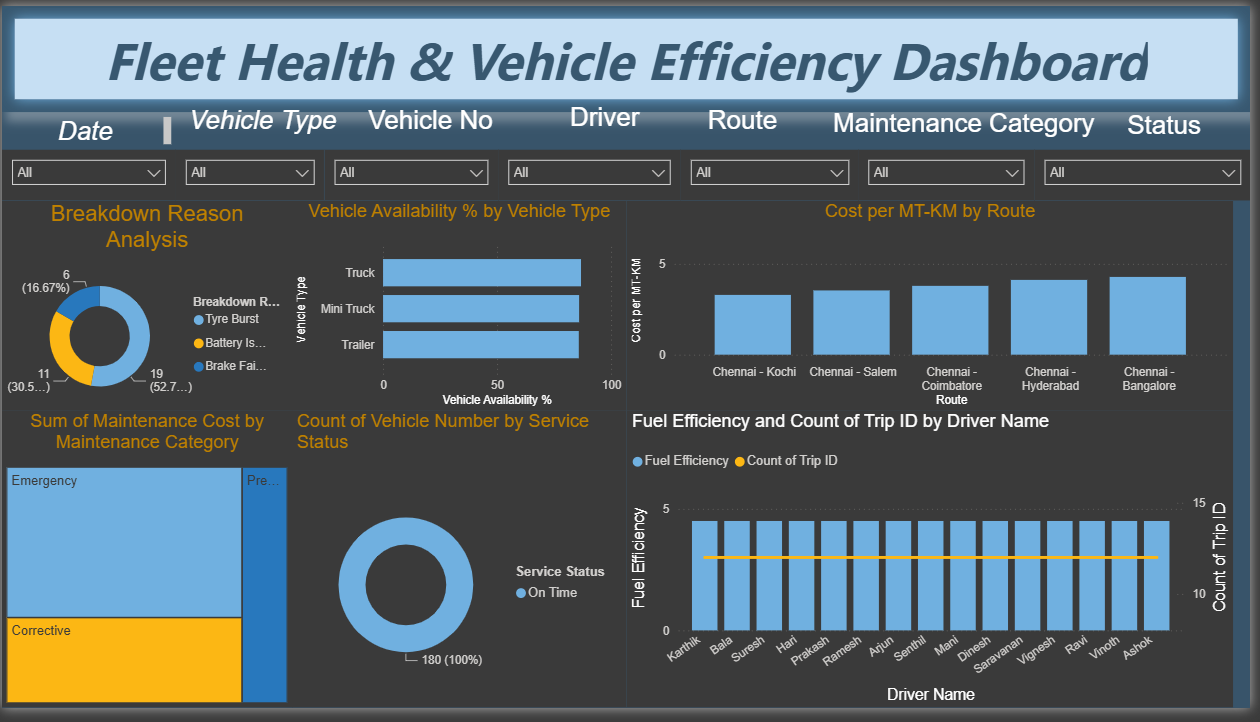

The dashboard page shown, as its layout file describes it:
{"tool":"powerbi","page":{"name":"Page 1","canvas":[1280,720],"ordinal":0},"visuals":[{"type":"shape","box":[17.4,15.2,1234.8,76.1],"z":0},{"type":"slicer","fields":{"Values":["Table1.Trip Date"]},"box":[0,143.5,195.7,41.3],"z":1000},{"type":"slicer","fields":{"Values":["Table1.Vehicle Number"]},"box":[341.3,143.5,154.3,41.3],"z":2000},{"type":"slicer","fields":{"Values":["Table1.Vehicle Status"]},"box":[1063,143.5,217.4,41.3],"z":3000},{"type":"slicer","fields":{"Values":["Table1.Vehicle Type"]},"box":[195.7,143.5,145.7,41.3],"z":4000},{"type":"slicer","fields":{"Values":["Table1.Maintenance Category"]},"box":[880.4,143.5,182.6,41.3],"z":5000},{"type":"slicer","fields":{"Values":["Table1.Route"]},"box":[660.9,143.5,219.6,41.3],"z":6000},{"type":"slicer","fields":{"Values":["Table1.Driver Name"]},"box":[495.7,143.5,165.2,41.3],"z":7000},{"type":"textbox","box":[50,95.7,97.8,47.8],"z":8000},{"type":"textbox","box":[147.8,95.7,241.3,47.8],"z":9000},{"type":"textbox","box":[341.3,95.7,200,47.8],"z":10000},{"type":"textbox","box":[523.9,95.7,137,47.8],"z":11000},{"type":"textbox","box":[687,93.5,182.6,50],"z":12000},{"type":"textbox","box":[813,95.7,308.7,47.8],"z":13000},{"type":"textbox","box":[1121.7,91.3,130.4,54.3],"z":14000},{"type":"cardVisual","fields":{"Data":["Table1.Active Vehicles"]},"box":[0,184.8,195.7,100],"z":15000},{"type":"cardVisual","fields":{"Data":["Table1.Vehicle Availability %"]},"box":[195.7,184.8,223.9,100],"z":16000},{"type":"cardVisual","fields":{"Data":["Table1.Total Distance"]},"box":[687,184.8,245.7,100],"z":17000},{"type":"cardVisual","fields":{"Data":["Table1.Fuel Cost per KM"]},"box":[932.6,284.8,347.8,97.8],"z":18000},{"type":"cardVisual","fields":{"Data":["Table1.Maintenance Cost per KM"]},"box":[932.6,184.8,347.8,100],"z":19000},{"type":"cardVisual","fields":{"Data":["Table1.Fuel Efficiency"]},"box":[195.7,284.8,223.9,97.8],"z":20000},{"type":"cardVisual","fields":{"Data":["Table1.Total Fuel Cost"]},"box":[419.6,184.8,267.4,100],"z":21000},{"type":"cardVisual","fields":{"Data":["Table1.Breakdown Count"]},"box":[0,284.8,195.7,97.8],"z":22000},{"type":"cardVisual","fields":{"Data":["Sum(Table1.Downtime Hours)"]},"box":[419.6,284.8,267.4,97.8],"z":23000},{"type":"cardVisual","fields":{"Data":["Sum(Table1.Service Compliance %)"]},"box":[687,284.8,245.7,97.8],"z":24000},{"type":"stackedAreaChart","title":"Monthly trends","fields":{"Category":["Table1.Trip Date.Variation.Date Hierarchy.Month"],"Y":["Sum(Table1.Fuel Cost)","Sum(Table1.Maintenance Cost)","Sum(Table1.Distance Travelled (KM))"]},"box":[0,382.6,419.6,337],"z":25000},{"type":"lineStackedColumnComboChart","title":"Vehicle-wise Fuel Efficiency Comparison","fields":{"Category":["Table1.Vehicle Number"],"Y2":["Table1.Fuel Efficiency"],"Y":["Table1.Fuel Efficiency"]},"box":[419.6,382.6,450,337],"z":26000},{"type":"clusteredBarChart","title":"Top Vehicles by Maintenance Cost & Downtime Visual","fields":{"Category":["Table1.Vehicle Number"],"Y":["Sum(Table1.Maintenance Cost)","Sum(Table1.Downtime Hours)"]},"box":[869.6,382.6,410.9,337],"z":27000}]}

Visuals, with their boxes in screenshot pixels (x1, y1, x2, y2), scaled from the page's 1280x720 canvas onto the 1260x722 screenshot:
shape: 17/15/1233/92
slicer - Table1.Trip Date: 0/144/193/185
slicer - Table1.Vehicle Number: 336/144/488/185
slicer - Table1.Vehicle Status: 1046/144/1259/185
slicer - Table1.Vehicle Type: 193/144/336/185
slicer - Table1.Maintenance Category: 867/144/1046/185
slicer - Table1.Route: 651/144/867/185
slicer - Table1.Driver Name: 488/144/651/185
textbox: 49/96/145/144
textbox: 145/96/383/144
textbox: 336/96/533/144
textbox: 516/96/651/144
textbox: 676/94/856/144
textbox: 800/96/1104/144
textbox: 1104/92/1233/146
cardVisual - Table1.Active Vehicles: 0/185/193/286
cardVisual - Table1.Vehicle Availability %: 193/185/413/286
cardVisual - Table1.Total Distance: 676/185/918/286
cardVisual - Table1.Fuel Cost per KM: 918/286/1259/384
cardVisual - Table1.Maintenance Cost per KM: 918/185/1259/286
cardVisual - Table1.Fuel Efficiency: 193/286/413/384
cardVisual - Table1.Total Fuel Cost: 413/185/676/286
cardVisual - Table1.Breakdown Count: 0/286/193/384
cardVisual - Sum(Table1.Downtime Hours): 413/286/676/384
cardVisual - Sum(Table1.Service Compliance %): 676/286/918/384
"Monthly trends" stackedAreaChart: 0/384/413/721
"Vehicle-wise Fuel Efficiency Comparison" lineStackedColumnComboChart: 413/384/856/721
"Top Vehicles by Maintenance Cost & Downtime Visual" clusteredBarChart: 856/384/1259/721
